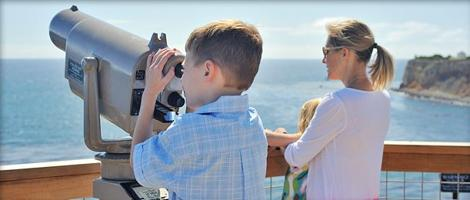person: (129, 20, 270, 200)
